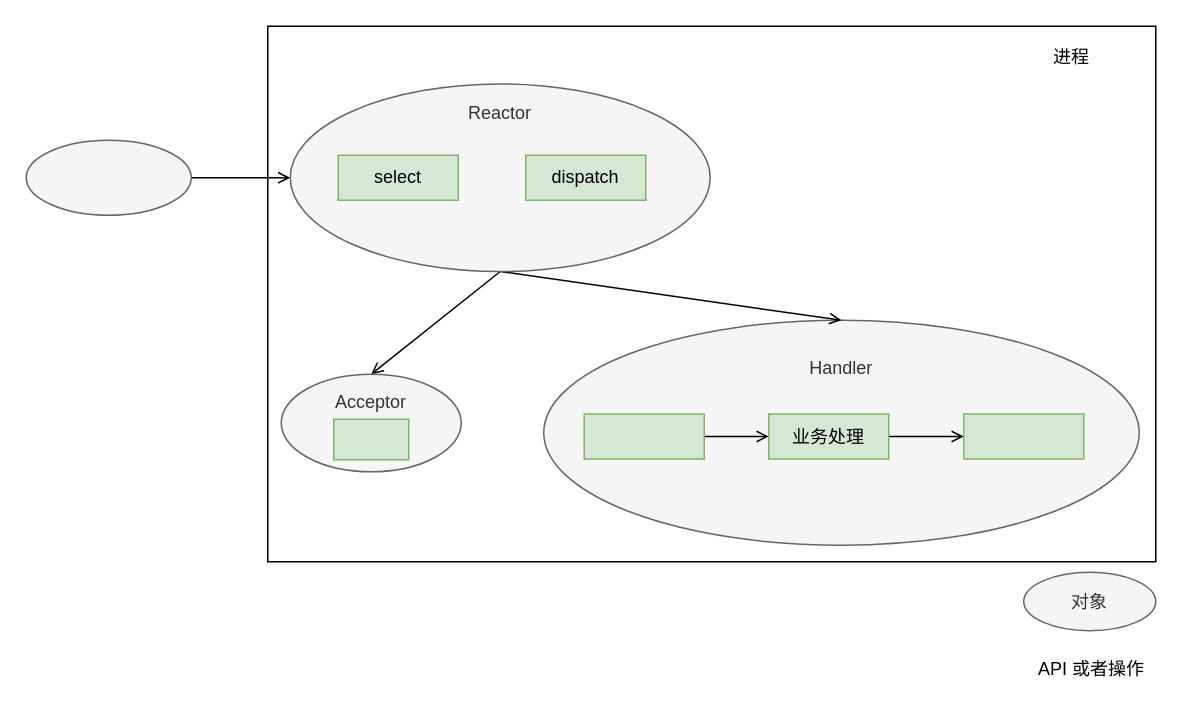
Image size: 1197x711. Some labels were removed from this diagram. Each missing label, with the centre of its shape:
"accept" belongs at [370,439].
"Client" belongs at [108,177].
"read" belongs at [643,435].
"send" belongs at [1023,435].
